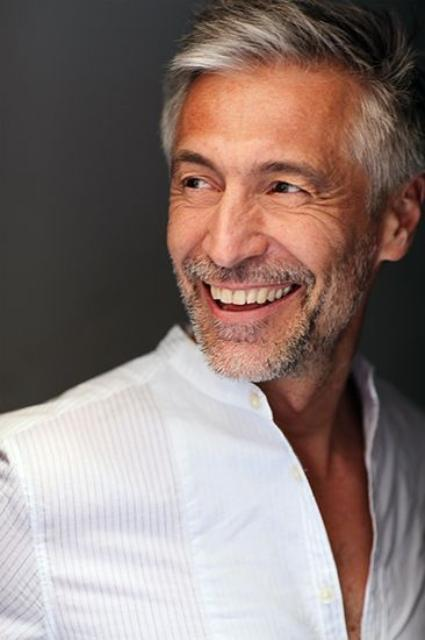crows_feet: (306, 186, 340, 222), (164, 183, 186, 217)
gummy_smile: (261, 231, 301, 263), (178, 231, 208, 261)
